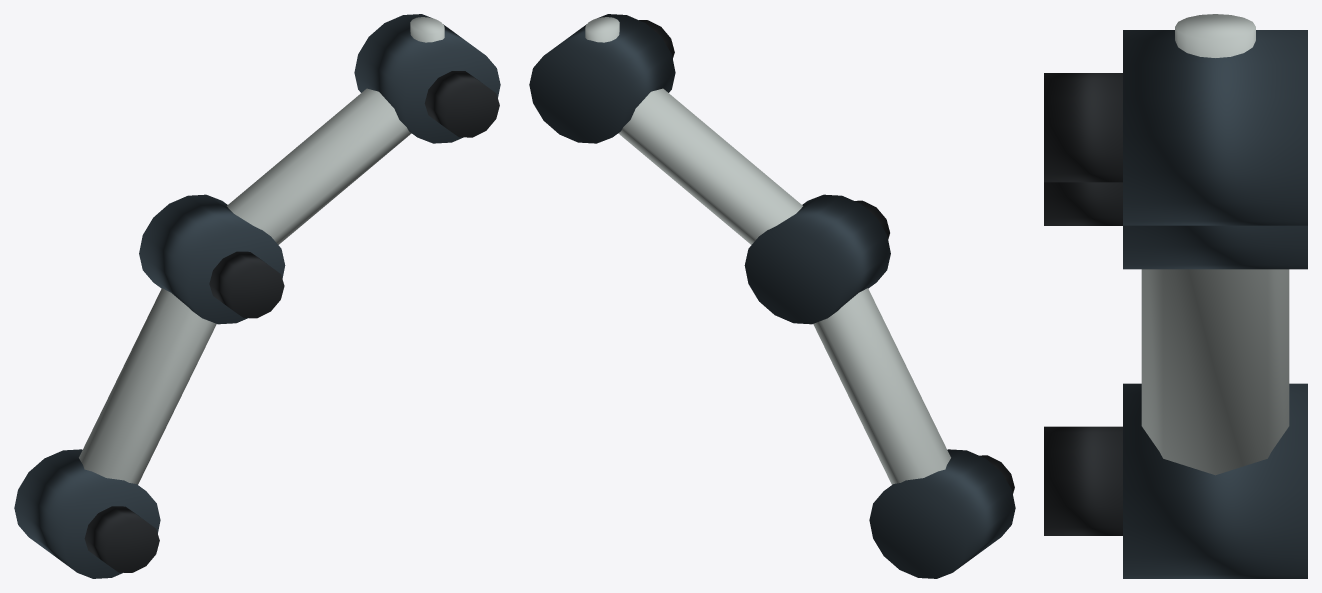
Rendered from P082_articulating_arm_rebuilt.glb.
The picture shows the model from 3 angles, left to right: view 1: azimuth 30°, elevation 25°; view 2: azimuth 150°, elevation 25°; view 3: azimuth 270°, elevation 25°; orthographic projection. The views are drawn at different scales.
Parts seen in each view (by area): view 1: shell, silver, rubber; view 2: shell, silver, rubber; view 3: shell, silver, rubber.
Boxes of the visible parts, x1,y1,x2,y2 form: shell: [14, 14, 500, 578]; silver: [79, 17, 444, 484]; rubber: [84, 71, 499, 572]; shell: [529, 14, 1015, 578]; silver: [585, 17, 950, 484]; rubber: [639, 20, 1014, 493]; shell: [1123, 30, 1307, 578]; silver: [1141, 14, 1289, 475]; rubber: [1044, 73, 1122, 535].
Bounding box in the file's own units: 0.294 × 0.29 × 0.081.
